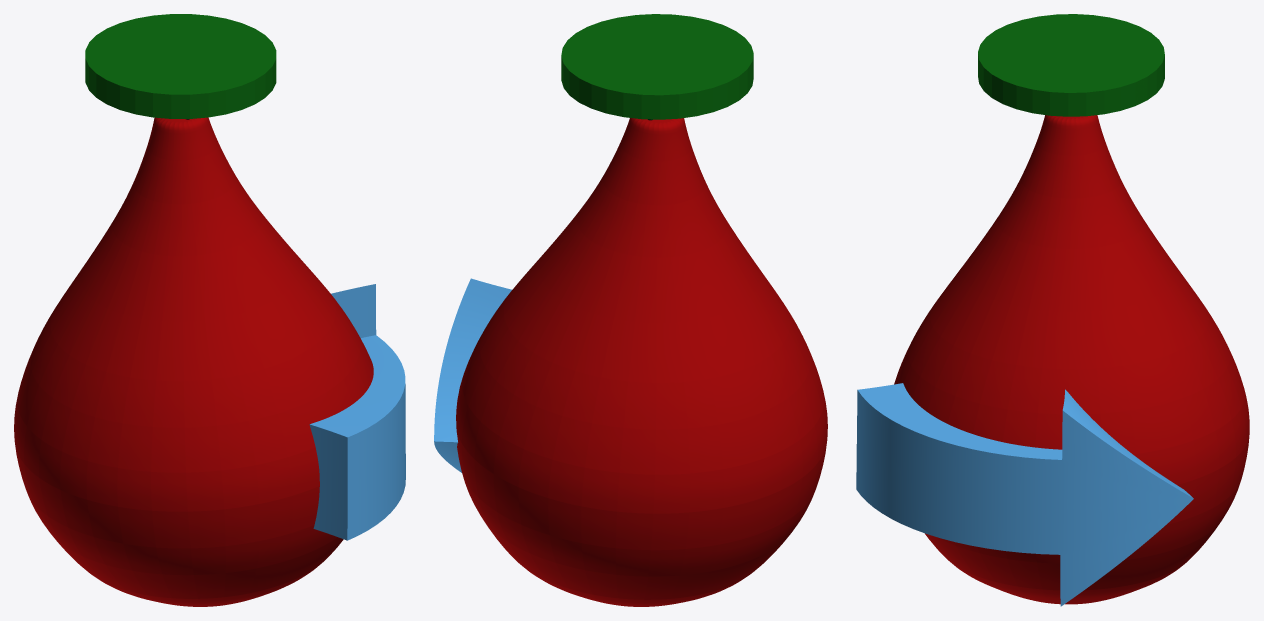
The model's file is PunchingBall_Gauche.fbx.
The picture shows the model from 3 angles, left to right: view 1: azimuth 30°, elevation 25°; view 2: azimuth 150°, elevation 25°; view 3: azimuth 270°, elevation 25°; orthographic projection. The views are drawn at different scales.
Parts seen in each view (by area): view 1: PunchingBall_Mini, Socle, RIGHT_ARROW; view 2: PunchingBall_Mini, Socle, RIGHT_ARROW; view 3: PunchingBall_Mini, RIGHT_ARROW, Socle.
Boxes of the visible parts, x1,y1,x2,y2 form: PunchingBall_Mini: [14, 117, 373, 606]; Socle: [85, 14, 276, 118]; RIGHT_ARROW: [309, 284, 405, 540]; PunchingBall_Mini: [456, 118, 827, 606]; Socle: [561, 14, 753, 119]; RIGHT_ARROW: [434, 278, 511, 472]; PunchingBall_Mini: [894, 115, 1249, 604]; RIGHT_ARROW: [856, 383, 1193, 606]; Socle: [978, 14, 1164, 116].
Size of the model in its own units: 293 by 453 by 306.
